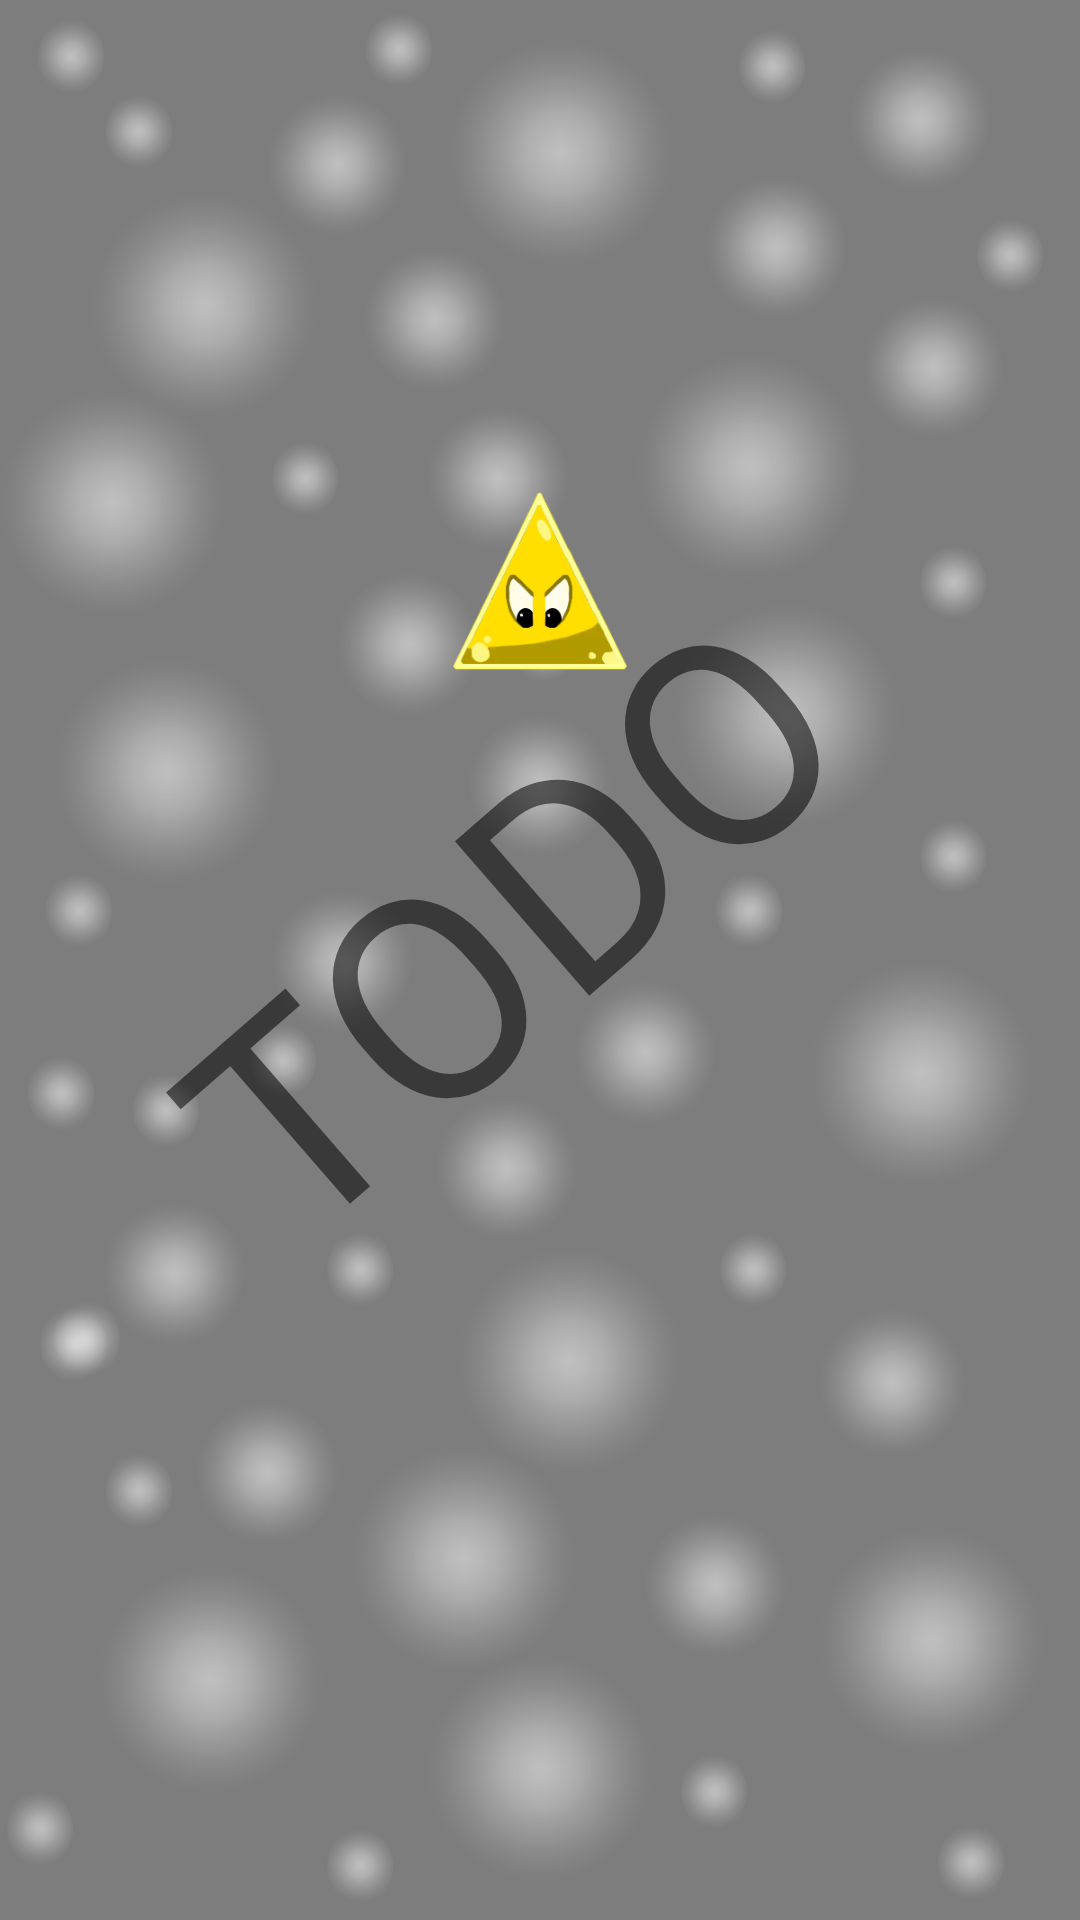

Icons on this 1080px×1920px Android screen, each with its box as rect(x1, y1, x2, y2):
triangulo: rect(450, 492, 627, 670)
